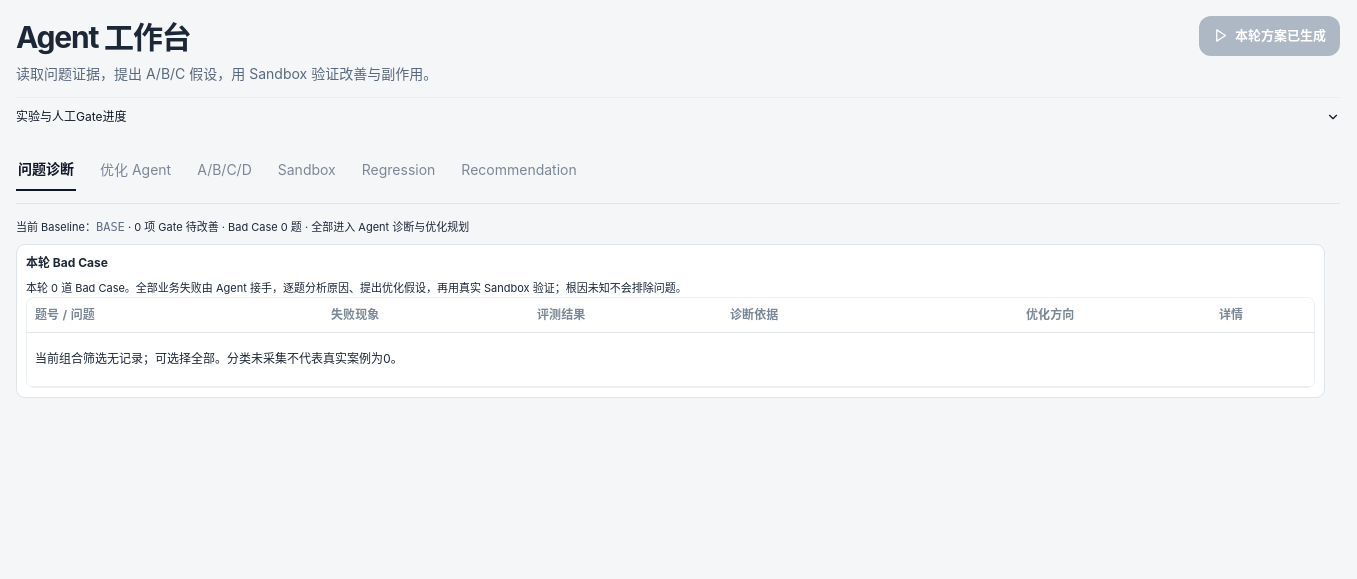
Scenario: does not infer a final recommendation from failed records with missing decision
Click the button "Recommendation". click: (519, 170)
box: left=459, top=148, right=579, bottom=191
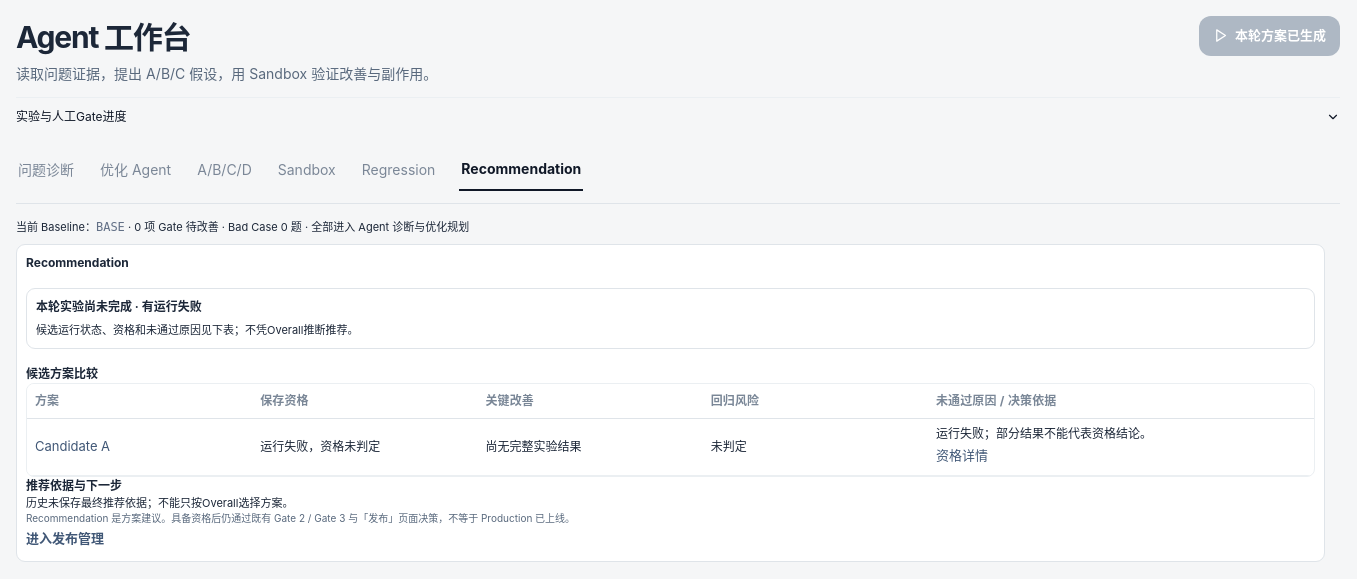
Expected: the element with class "conclusion-card" shows "运行失败", left=36, top=299, right=202, bottom=314
